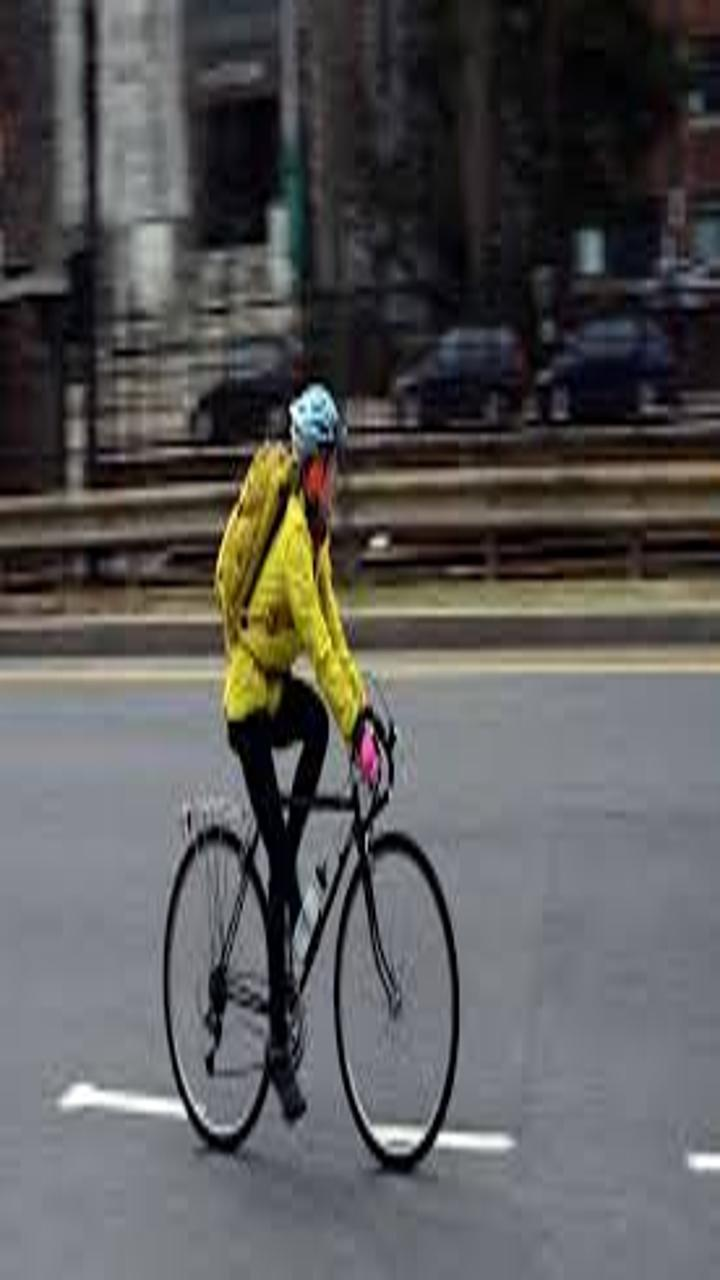bicycle: (102, 693, 570, 1204)
cyclist: (212, 307, 404, 1131)
